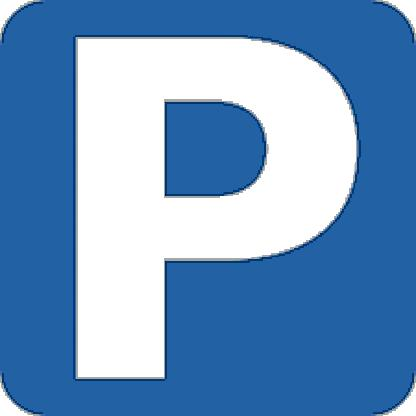Parking: (9, 4, 416, 416)
